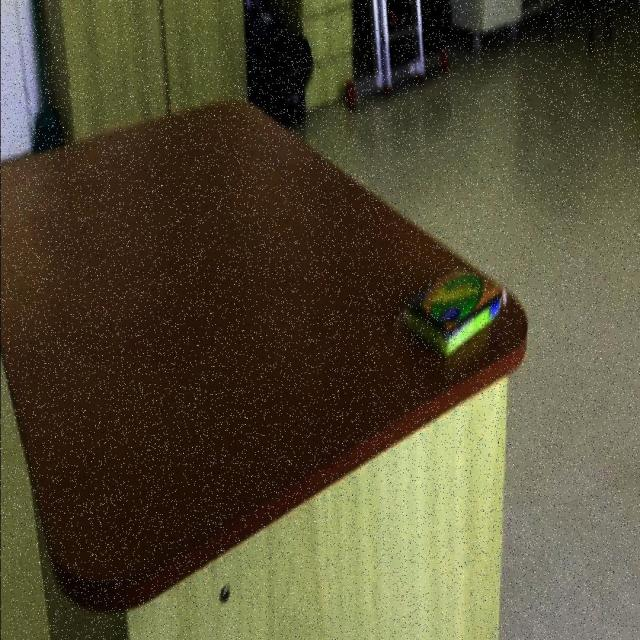Sponge: (0, 98, 530, 614), (393, 265, 508, 360)
